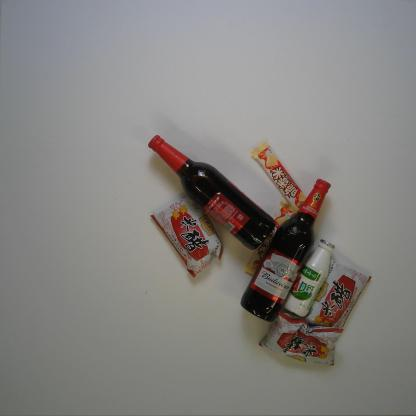Alcohol: (146, 134, 276, 252), (239, 177, 332, 324)
Chocolate: (245, 200, 299, 276), (250, 141, 307, 208)
Milk: (282, 239, 336, 318)
Seasoner: (149, 194, 223, 280), (297, 256, 372, 329), (257, 310, 345, 366)
